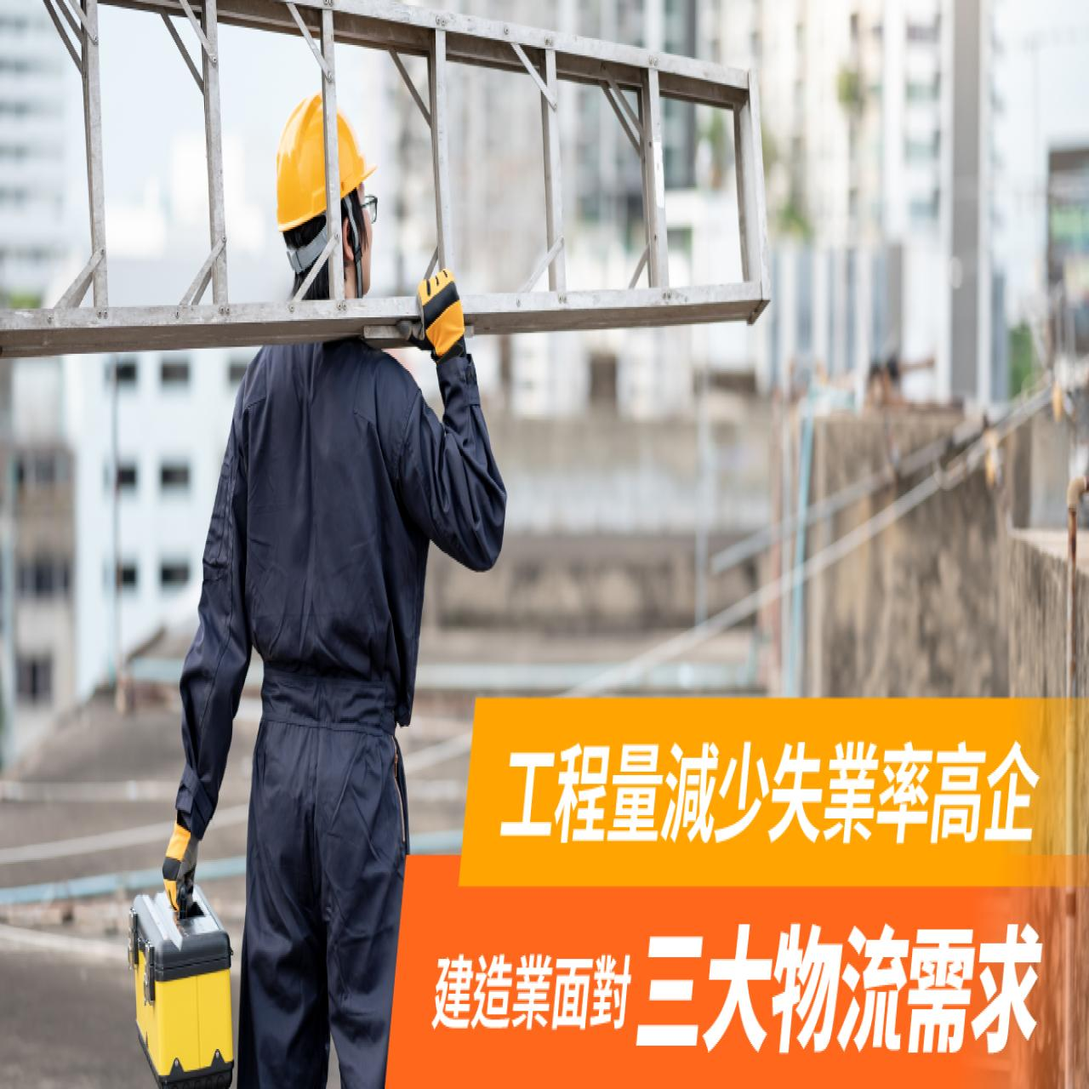NO_Safety_Vest: (195, 307, 476, 757)
Person: (144, 73, 522, 1087)
